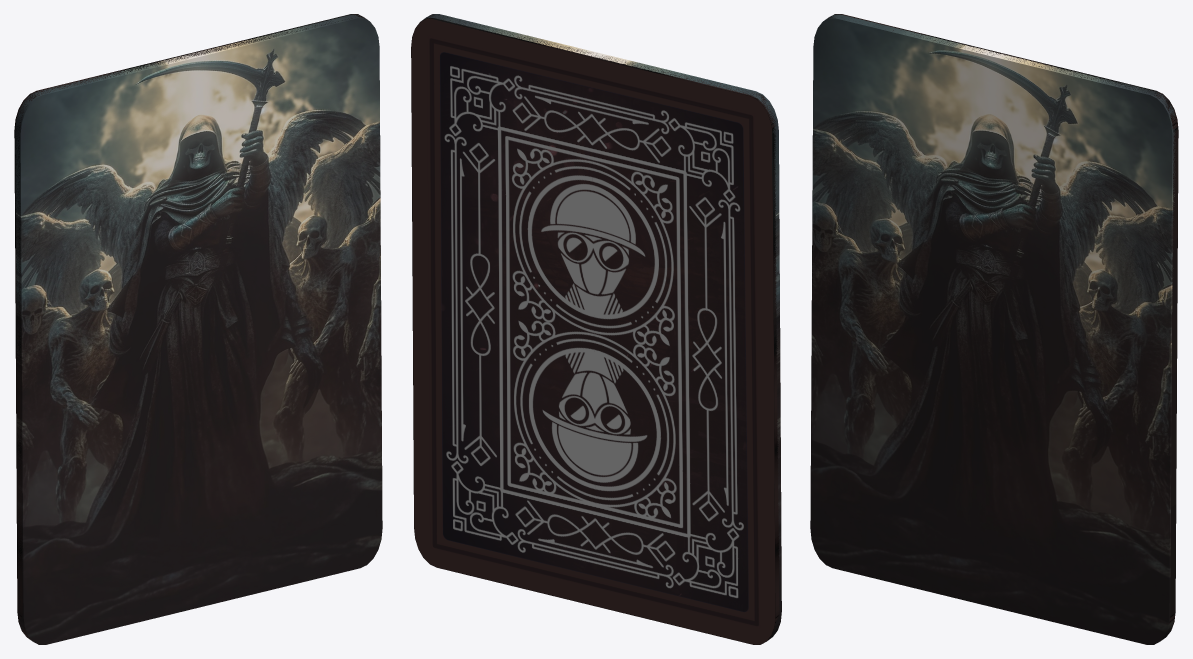
The model's file is death_tarot.glb.
3 views of the same model, side by side, from view 1: azimuth 30°, elevation 25°; view 2: azimuth 150°, elevation 25°; view 3: azimuth 330°, elevation 25° (orthographic).
Parts seen in each view (by area): view 1: Plane.001, Plane.002; view 2: Plane.002, Plane.001; view 3: Plane.001, Plane.002.
Part boxes in pixels (left/top/right/bottom): Plane.001: left=15, top=14, right=382, bottom=644; Plane.002: left=14, top=14, right=367, bottom=640; Plane.002: left=411, top=14, right=779, bottom=644; Plane.001: left=422, top=14, right=781, bottom=640; Plane.001: left=810, top=14, right=1175, bottom=644; Plane.002: left=827, top=14, right=1178, bottom=637.
Size of the model in its own units: 0.2792 by 0.407 by 0.0129.
Materials: 2 (2 with a texture image).
